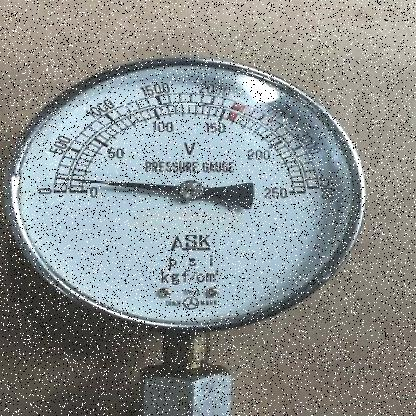needle: (54, 177, 180, 194)
